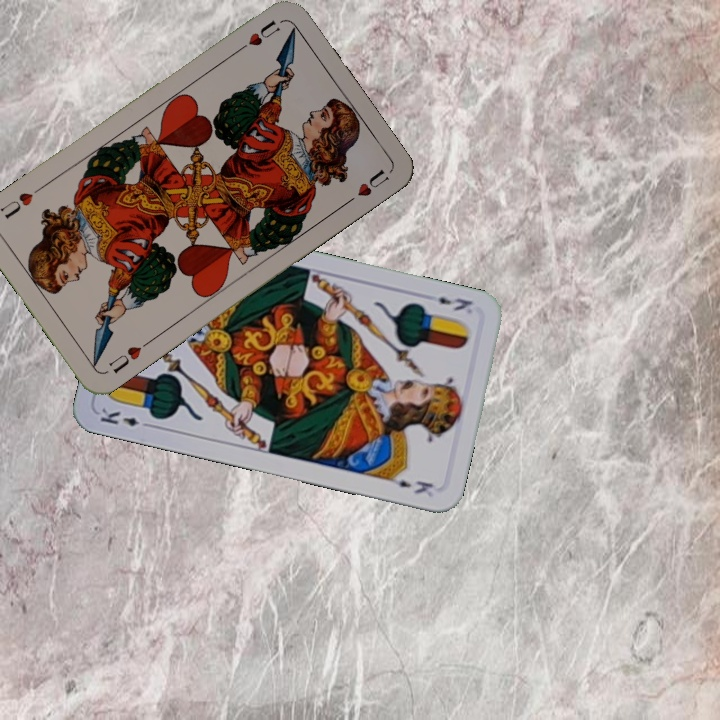EK: (96, 404, 155, 431), (434, 292, 475, 314)
HU: (232, 16, 283, 56), (104, 336, 154, 376)
